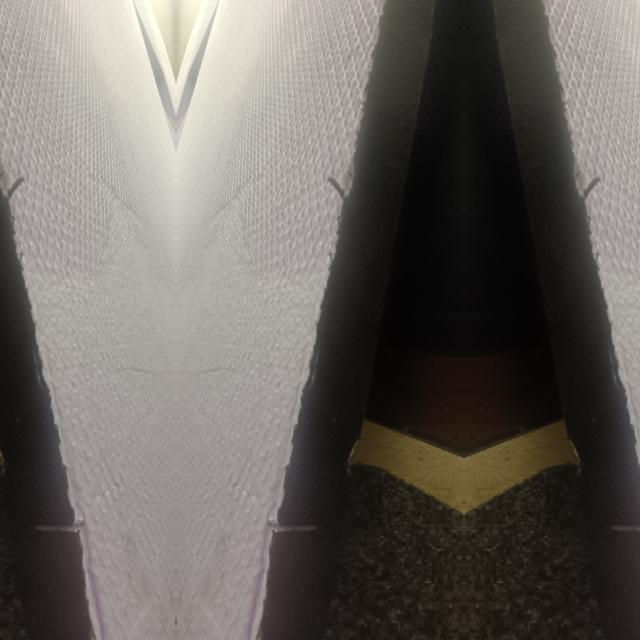obstacle: (176, 112, 382, 640), (0, 112, 173, 639), (546, 112, 640, 639)
